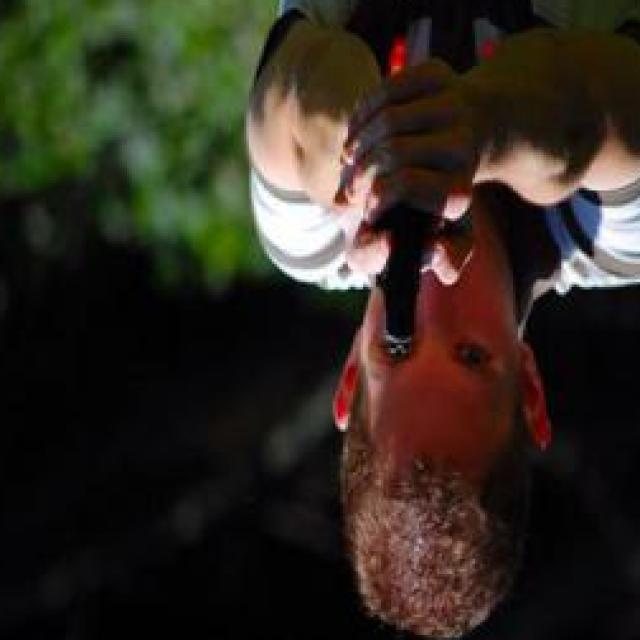pistol: (377, 207, 419, 356)
